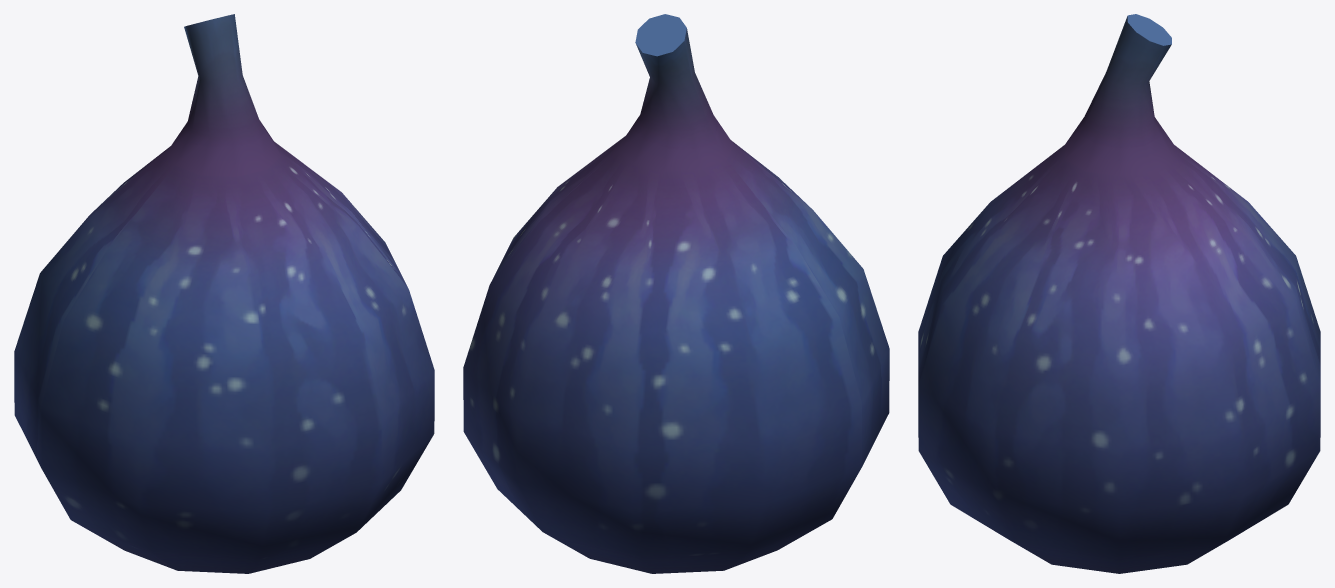
File: Fig_Blue.fbx
3 views of the same model, side by side, from view 1: azimuth 30°, elevation 25°; view 2: azimuth 150°, elevation 25°; view 3: azimuth 270°, elevation 25° (orthographic).
Parts seen in each view (by area): view 1: Fig_Blue; view 2: Fig_Blue; view 3: Fig_Blue.
Part boxes in pixels (x1,y1,x2,y2): Fig_Blue: [14, 14, 434, 573]; Fig_Blue: [463, 14, 889, 573]; Fig_Blue: [918, 14, 1320, 573].
Size of the model in its own units: 24.07 by 32.55 by 22.89.
1 material, 1 textured.
